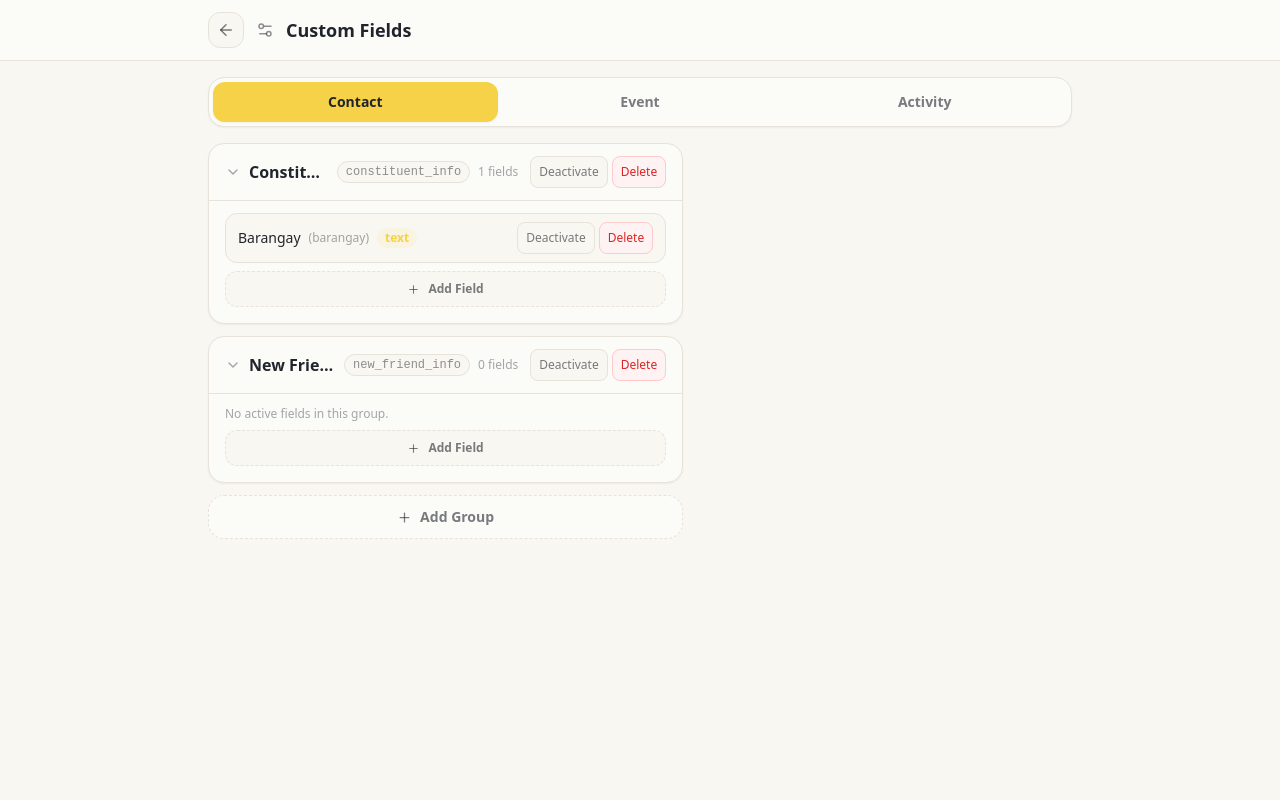
Scenario: CustomFieldsPage — 409 probe surfaces affected_contacts (AC4) › hard-delete field: shows affected contact count when 409 returned
Expected: the text "Constituent Info" is shown, 249,160 -> 329,184
Step 1. Click the button with aria-label "Delete Barangay" → (626, 238), box 599,222 -> 653,254
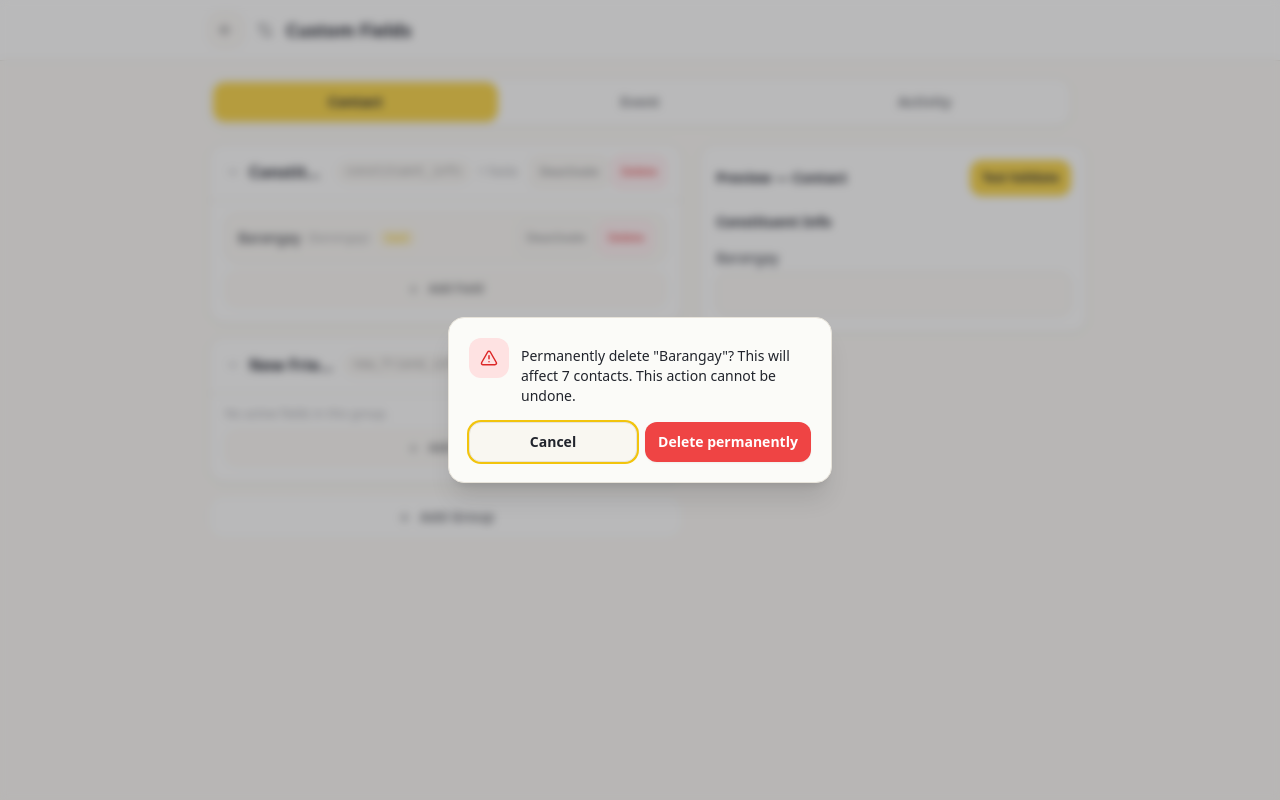
Result: the dialog is shown at 448,317 -> 832,483
Result: the dialog shows "7" at 521,346 -> 790,405
